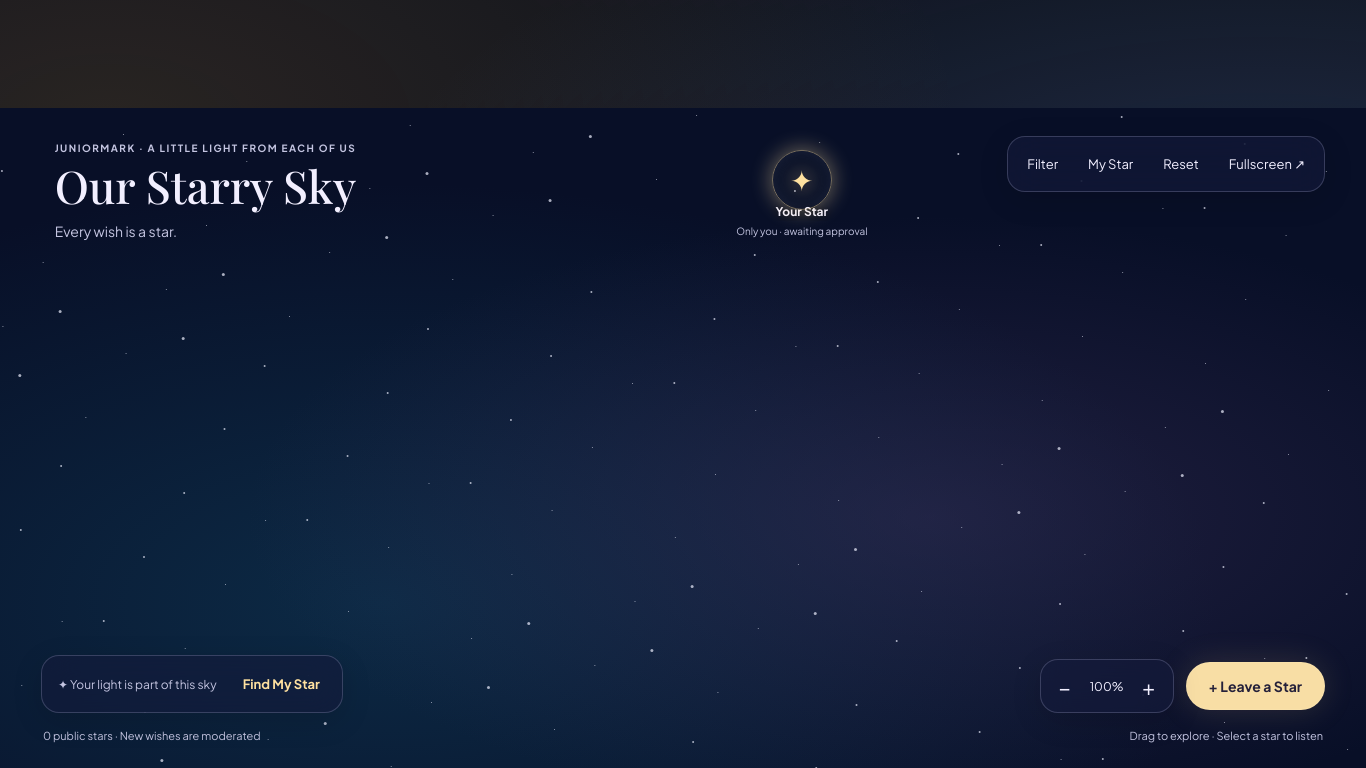
shows an owner pending star privately without including rejected stars or inflating the public count
This screenshot has width=1366, height=768.
Expected: the text "0 public stars" is shown, [41,727,1325,746]
Click the button "Find My Star" at (281, 684), box [229,662,334,706]
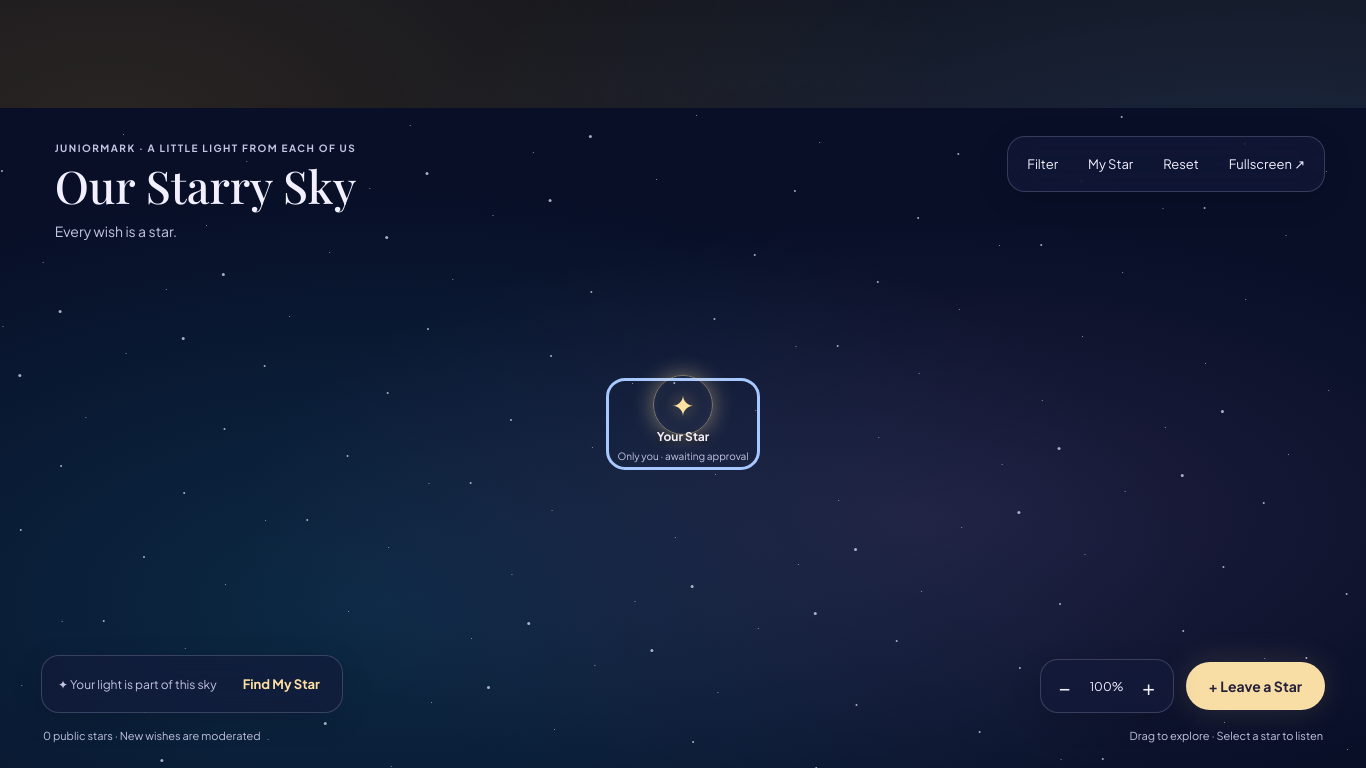
Click the button "✦ Your Star Only you · awaiting approval" at (683, 424), box [613,385,753,463]
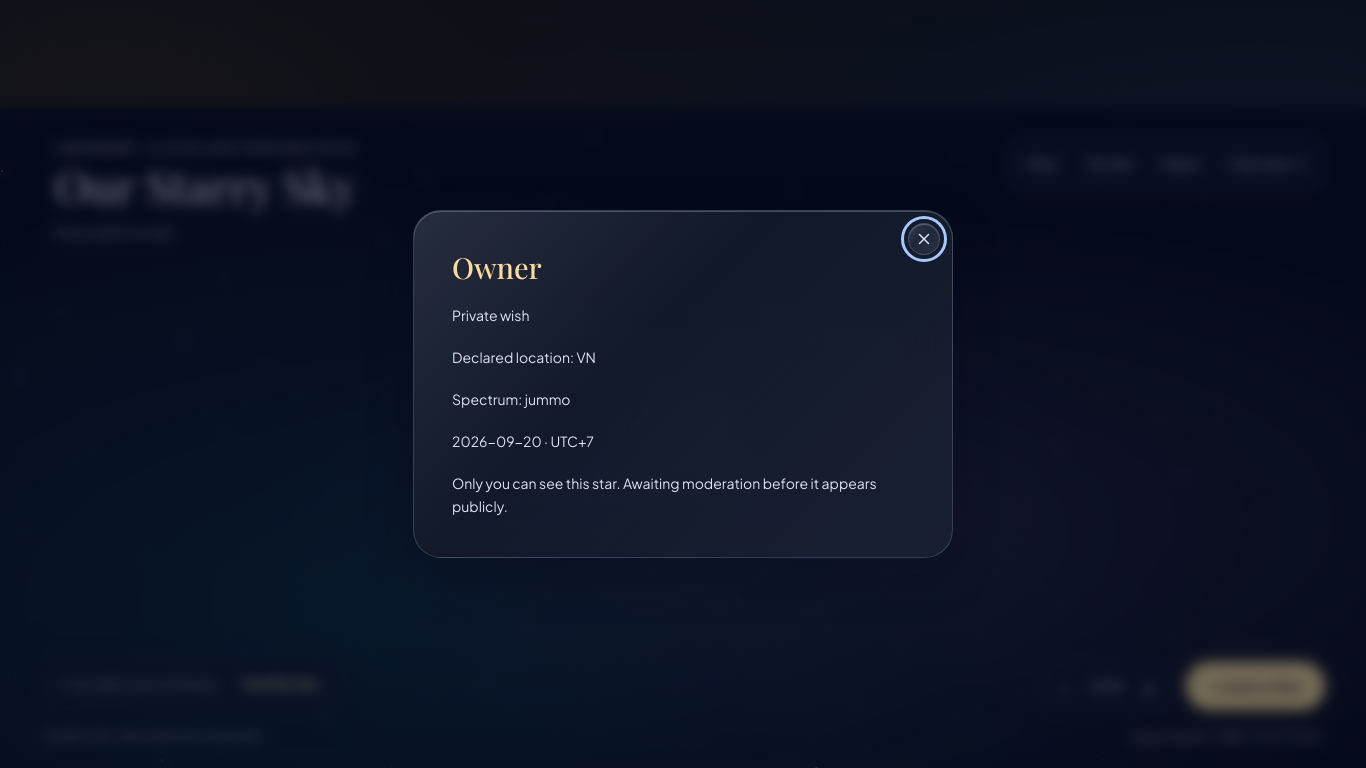
Now the dialog shows "Only you can see this star.", box [452,474,877,515]
